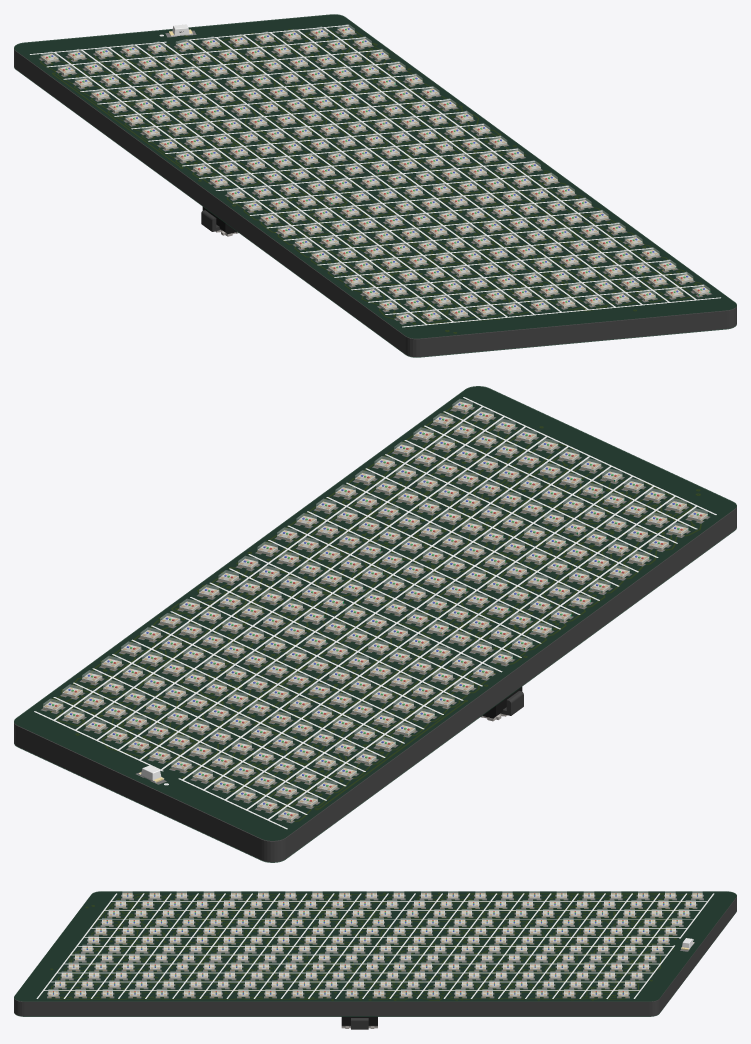
File: board.glb
3 renders of one model, top to bottom at view 1: azimuth 30°, elevation 25°; view 2: azimuth 150°, elevation 25°; view 3: azimuth 270°, elevation 25°, orthographic. The views are drawn at different scales.
Parts seen in each view (by area): view 1: parallelogram_soldermask (×2), parallelogram_PCB, parallelogram_silkscreen, parallelogram_pad, parallelogram_copper; view 2: parallelogram_soldermask (×2), parallelogram_PCB, parallelogram_silkscreen, parallelogram_pad, parallelogram_copper; view 3: parallelogram_soldermask (×2), parallelogram_PCB, parallelogram_silkscreen, parallelogram_pad, parallelogram_copper, SW-SMD_EVQP7C01P-L3.6-W3.5-H1.4-P3.6-LS4.7.
Part boxes in pixels (x1=…): parallelogram_soldermask (×2): x1=14, y1=14, x2=736, y2=357; parallelogram_PCB: x1=14, y1=15, x2=736, y2=357; parallelogram_silkscreen: x1=30, y1=25, x2=720, y2=327; parallelogram_pad: x1=39, y1=30, x2=711, y2=324; parallelogram_copper: x1=40, y1=31, x2=700, y2=333; parallelogram_soldermask (×2): x1=14, y1=386, x2=736, y2=862; parallelogram_PCB: x1=14, y1=387, x2=736, y2=862; parallelogram_silkscreen: x1=34, y1=397, x2=716, y2=829; parallelogram_pad: x1=40, y1=407, x2=710, y2=823; parallelogram_copper: x1=50, y1=407, x2=701, y2=821; parallelogram_soldermask (×2): x1=14, y1=891, x2=736, y2=1016; parallelogram_PCB: x1=14, y1=892, x2=736, y2=1016; parallelogram_silkscreen: x1=36, y1=893, x2=714, y2=998; parallelogram_pad: x1=47, y1=895, x2=703, y2=998; parallelogram_copper: x1=51, y1=893, x2=687, y2=999; SW-SMD_EVQP7C01P-L3.6-W3.5-H1.4-P3.6-LS4.7: x1=341, y1=1017, x2=377, y2=1029.
Size of the model in its own units: 0.0259 by 0.00363 by 0.0693.
